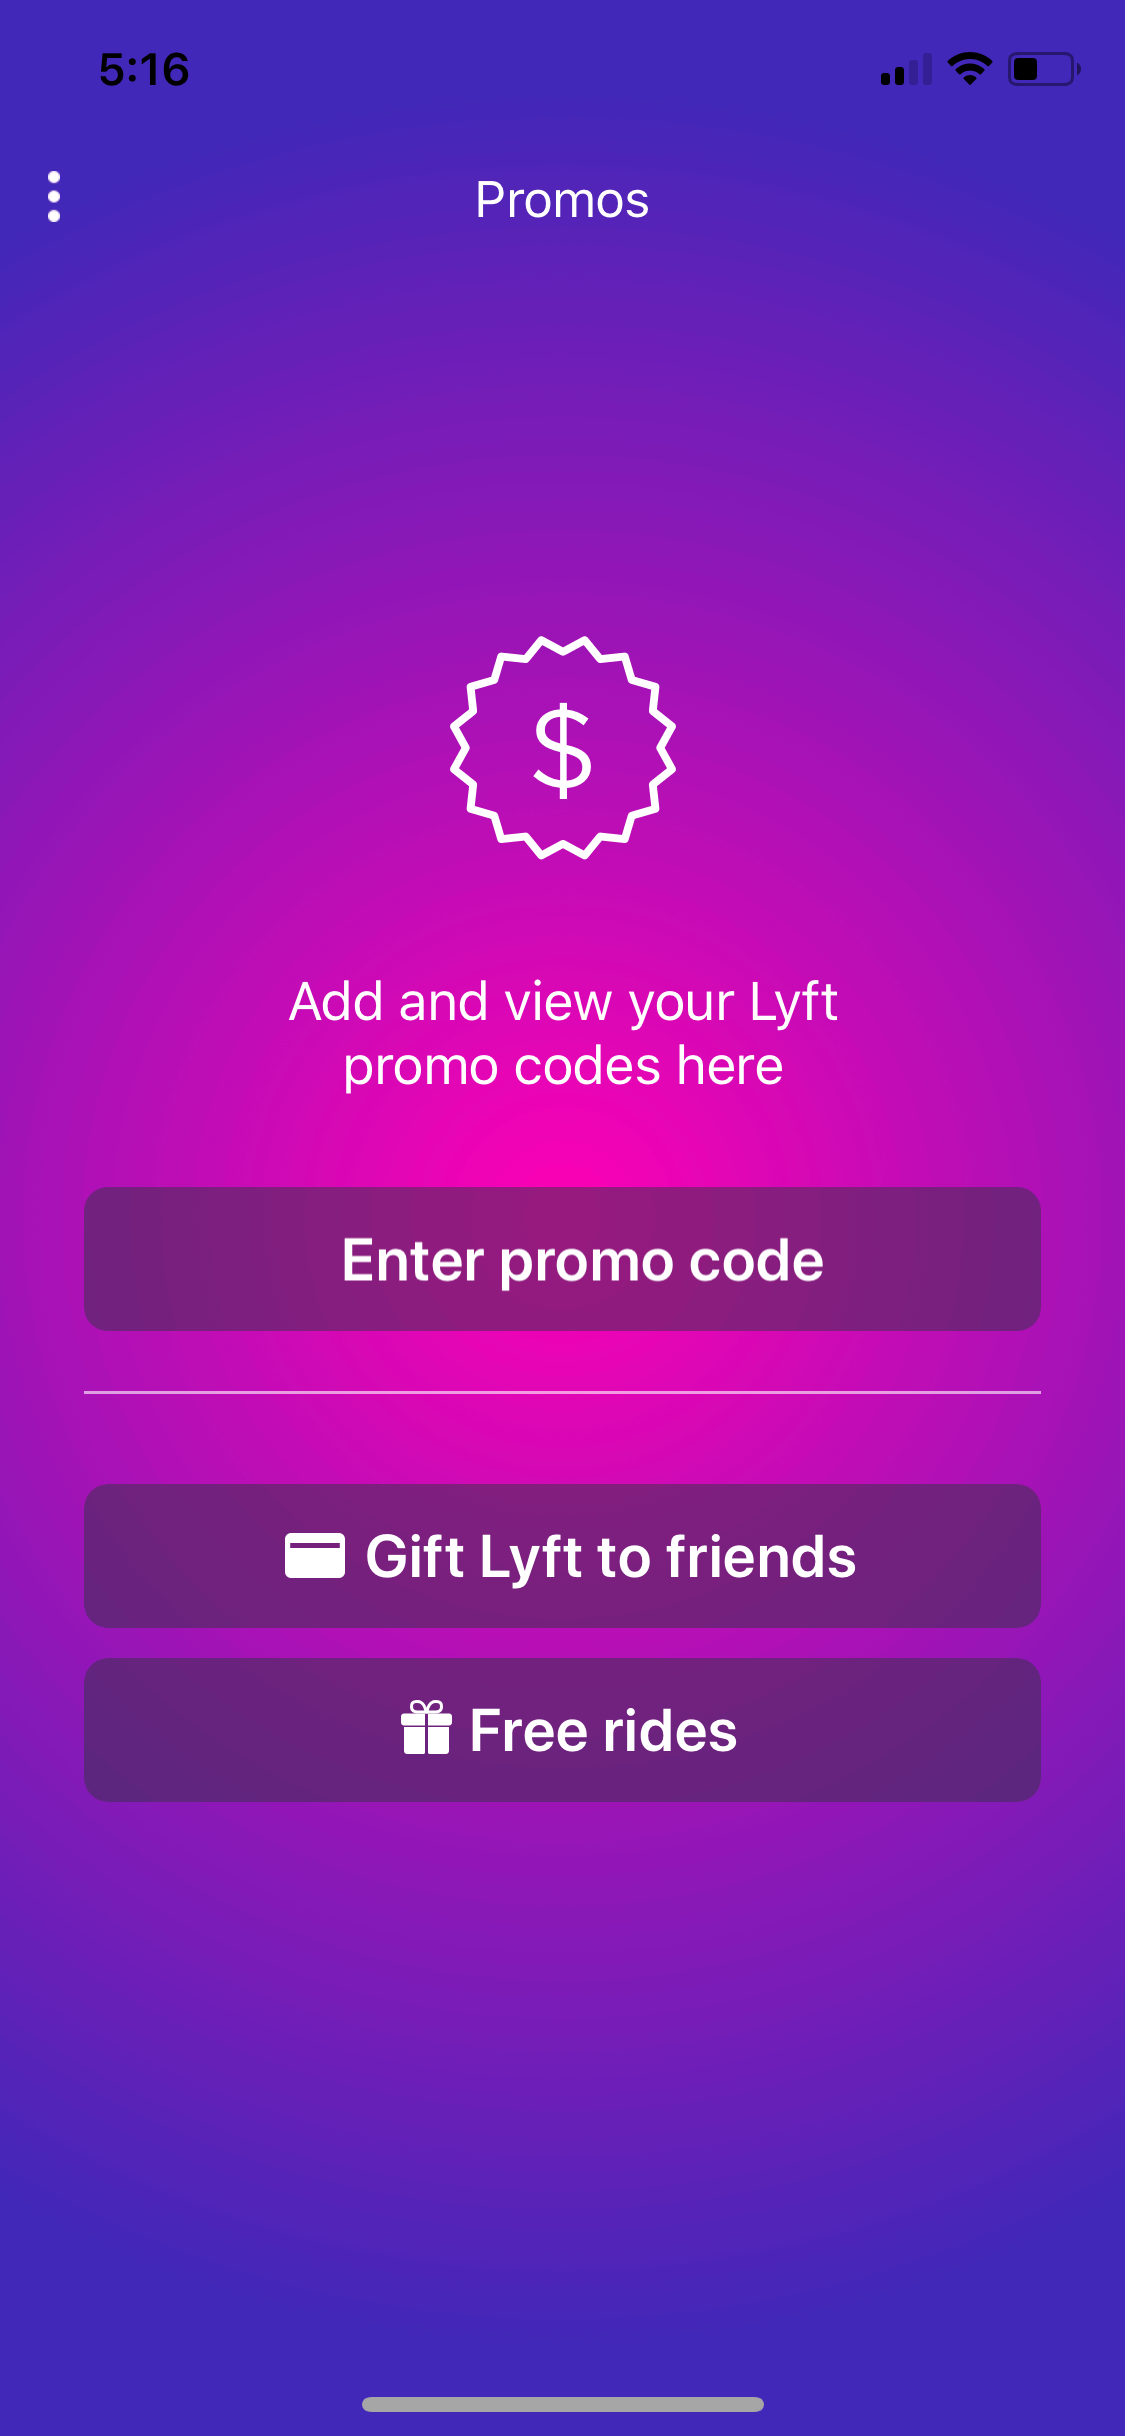Buttons: (68, 1167, 1060, 1344), (71, 1456, 1064, 1631), (71, 1644, 1064, 1807), (9, 134, 106, 245)
